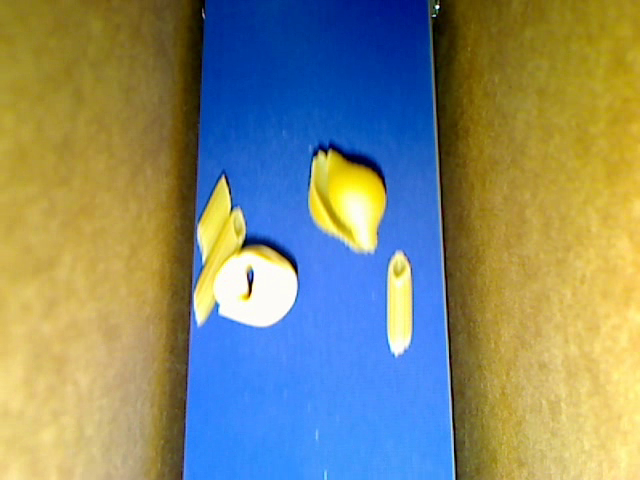penne: (194, 205, 246, 326), (197, 171, 231, 266), (386, 250, 412, 357)
shell: (307, 149, 387, 253)
tortellini: (214, 245, 297, 327)
